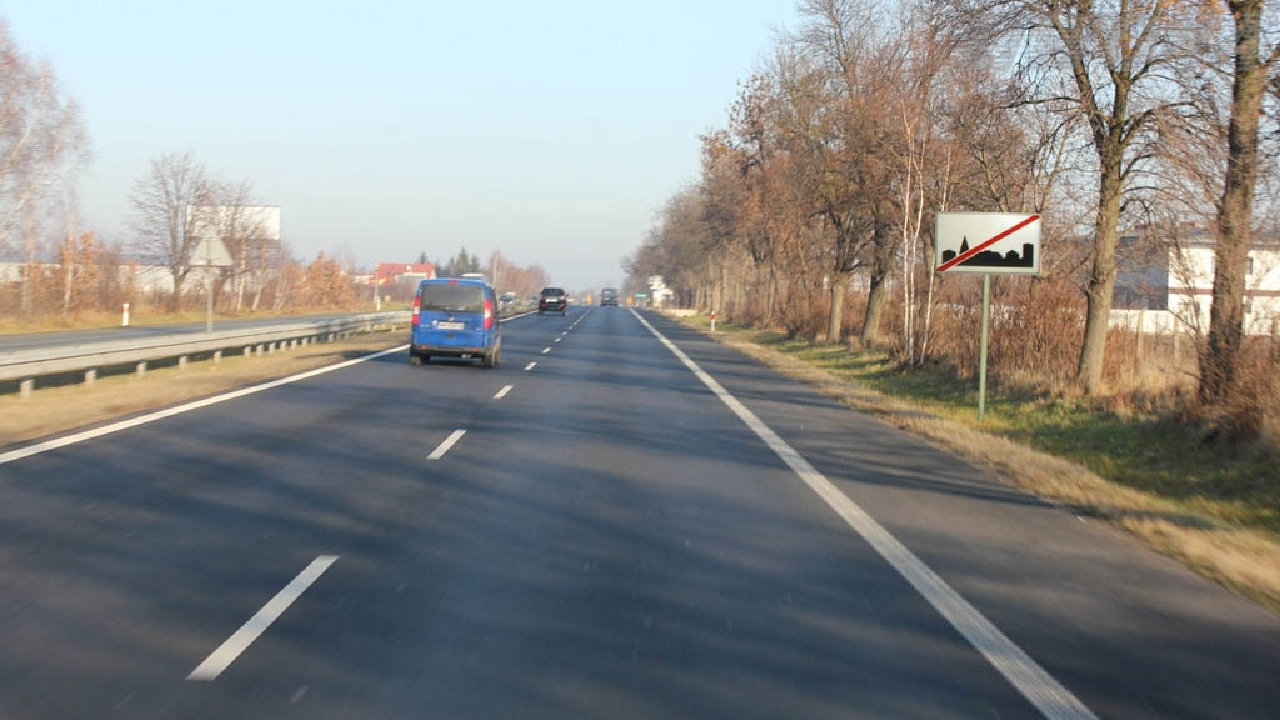D43: (935, 211, 1041, 274)
